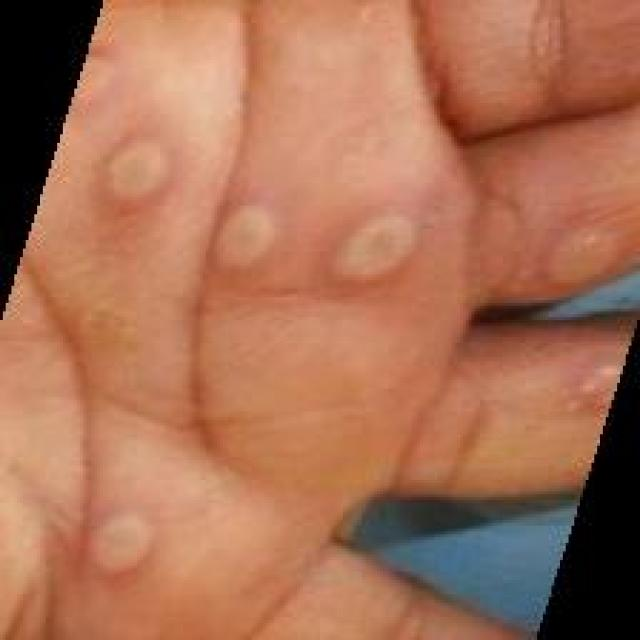monkeypox: (48, 42, 568, 640)
